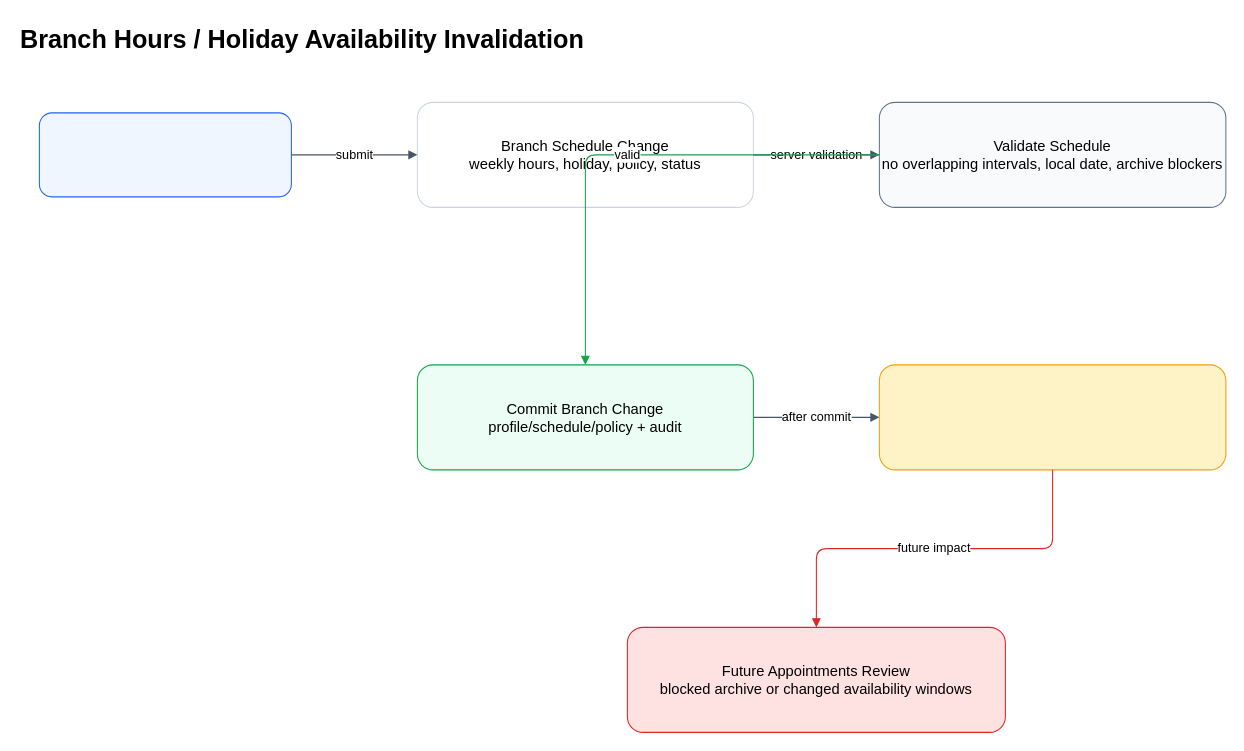
Image size: 1244x751. Some labels were removed from this diagram. The centre of each missing label's shape, as x and y in pixels:
"Invalidate Availability future slot search and appointment warnings" goes at point 1052,417.
"Owner / Branch Manager" goes at point 164,154.
